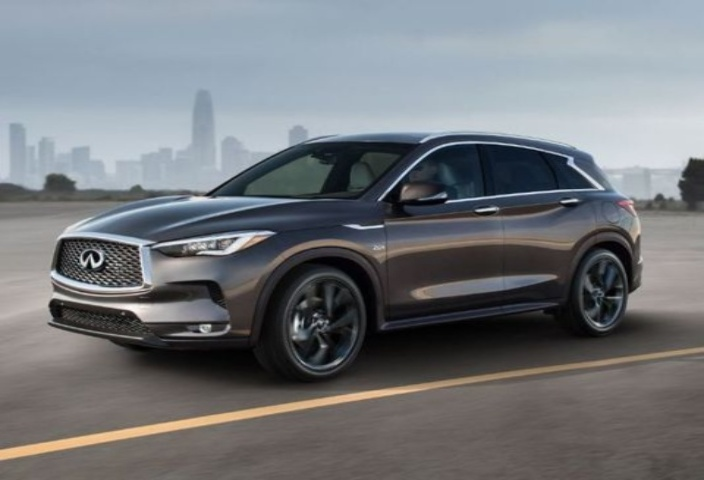camper: (35, 113, 646, 386)
